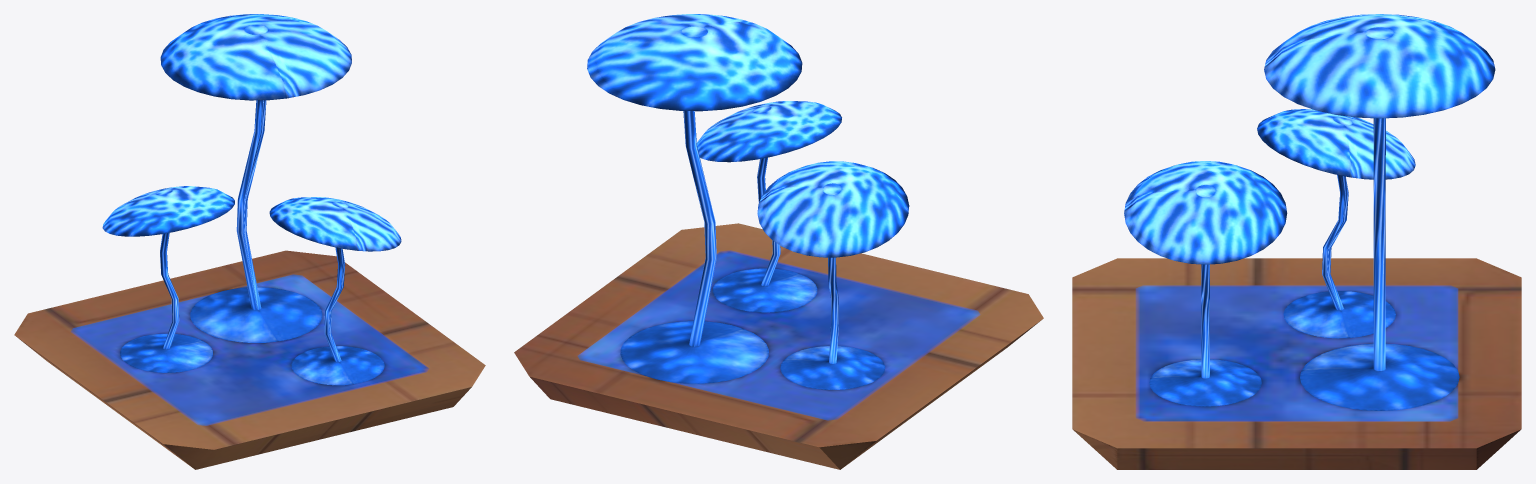
Rendered from mushroom_plarform.glb.
The picture shows the model from 3 angles, left to right: view 1: azimuth 30°, elevation 25°; view 2: azimuth 150°, elevation 25°; view 3: azimuth 270°, elevation 25°; orthographic projection. The views are drawn at different scales.
Visible parts, largest first — view 1: Cube.008, mushroom.004, mushroom.005, mushroom.006; view 2: Cube.008, mushroom.004, mushroom.006, mushroom.005; view 3: Cube.008, mushroom.004, mushroom.005, mushroom.006.
Part boxes in pixels (<box>): Cube.008: <box>14,250,485,469</box>; mushroom.004: <box>160,14,351,342</box>; mushroom.005: <box>269,197,401,385</box>; mushroom.006: <box>102,186,234,372</box>; Cube.008: <box>514,223,1043,469</box>; mushroom.004: <box>587,14,802,383</box>; mushroom.006: <box>757,161,909,389</box>; mushroom.005: <box>697,101,841,312</box>; Cube.008: <box>1072,258,1521,469</box>; mushroom.004: <box>1264,14,1495,410</box>; mushroom.005: <box>1124,161,1287,406</box>; mushroom.006: <box>1257,109,1415,338</box>.
Size of the model in its own units: 1 by 0.945 by 1.
Materials: 2 (2 with a texture image).
